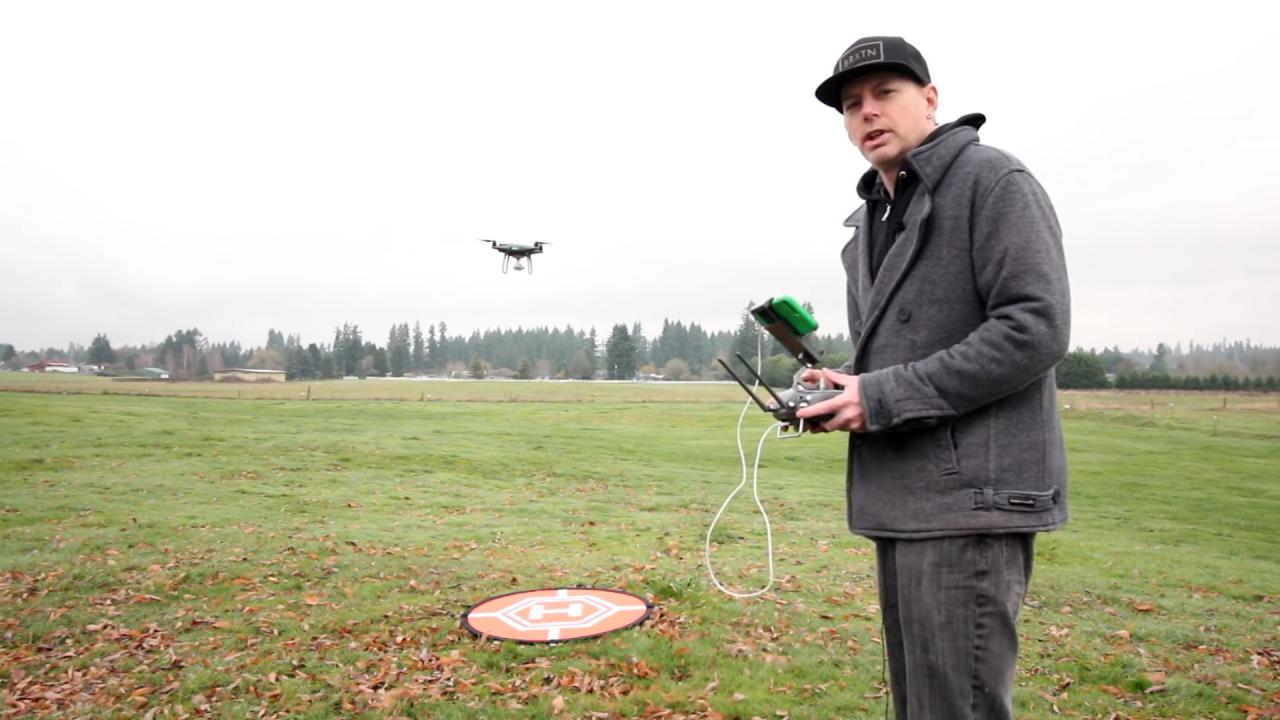Drone: (470, 227, 559, 283)
